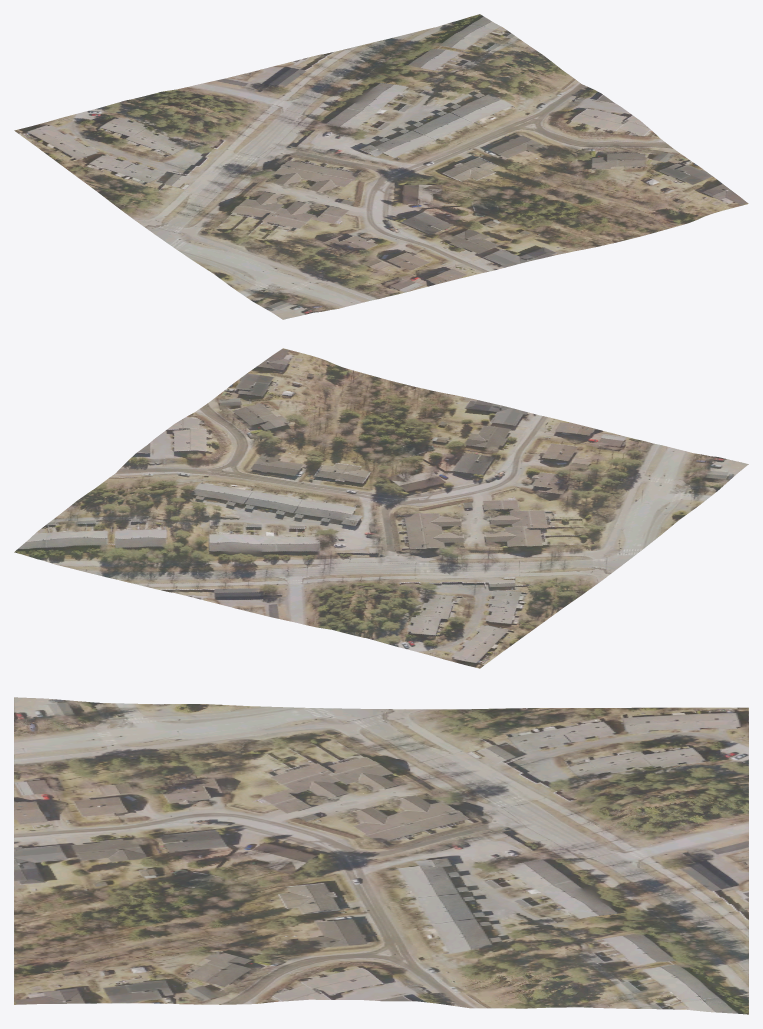
Rendered from CM_Terrain_24490458_6817336.fbx.
3 renders of one model, top to bottom at view 1: azimuth 30°, elevation 25°; view 2: azimuth 150°, elevation 25°; view 3: azimuth 270°, elevation 25°, orthographic. The views are drawn at different scales.
Visible parts, largest first — view 1: CM_Terrain_24490458_6817336_LOD0; view 2: CM_Terrain_24490458_6817336_LOD0; view 3: CM_Terrain_24490458_6817336_LOD0.
Boxes of the visible parts, bbox=[...] form: CM_Terrain_24490458_6817336_LOD0: bbox=[14, 14, 748, 319]; CM_Terrain_24490458_6817336_LOD0: bbox=[14, 348, 748, 668]; CM_Terrain_24490458_6817336_LOD0: bbox=[14, 697, 748, 1014].
Size of what is drawn, in the model's own units: 205 by 6.35 by 205.
